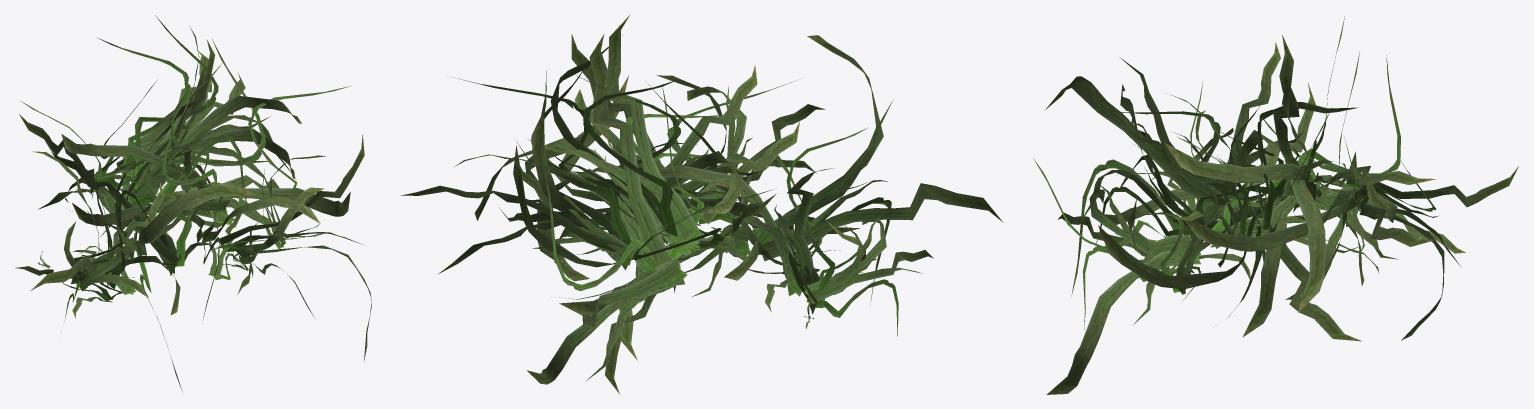
The model's file is grass_bush.glb.
3 renders of one model, left to right at view 1: azimuth 30°, elevation 25°; view 2: azimuth 150°, elevation 25°; view 3: azimuth 270°, elevation 25°, orthographic. The views are drawn at different scales.
Parts seen in each view (by area): view 1: grass_bush; view 2: grass_bush; view 3: grass_bush.
Boxes of the visible parts, x1=… form: grass_bush: x1=15, y1=15, x2=371, y2=391; grass_bush: x1=401, y1=14, x2=1003, y2=394; grass_bush: x1=1033, y1=16, x2=1518, y2=394.
Size of the model in its own units: 1.35 by 0.939 by 1.29.
1 material, 1 textured.
